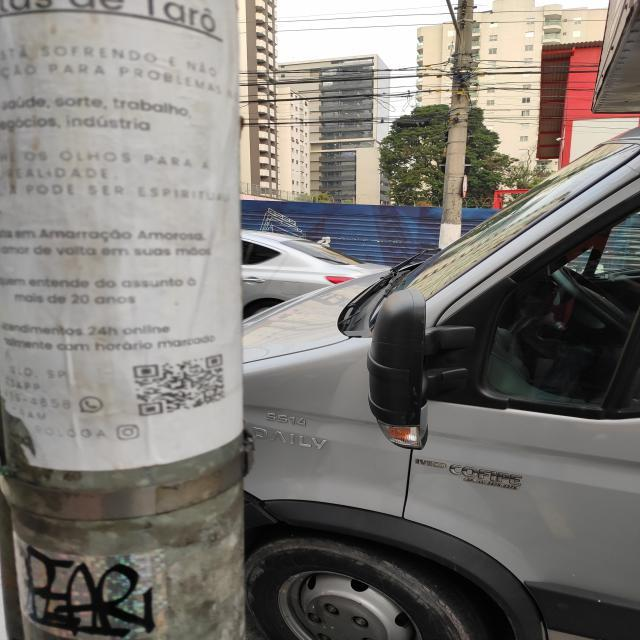qrcode: (133, 356, 226, 418)
